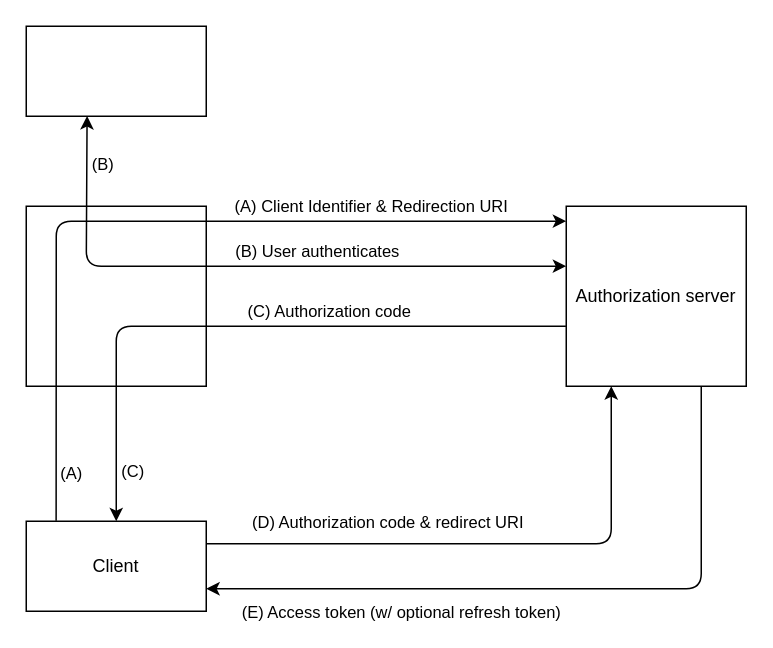
This 773x648 diagram has some shape labels left out. The centre of each missing label's shape, as x and y in pixels:
Resource Owner: pixel 115 70
User-agent: pixel 115 295
